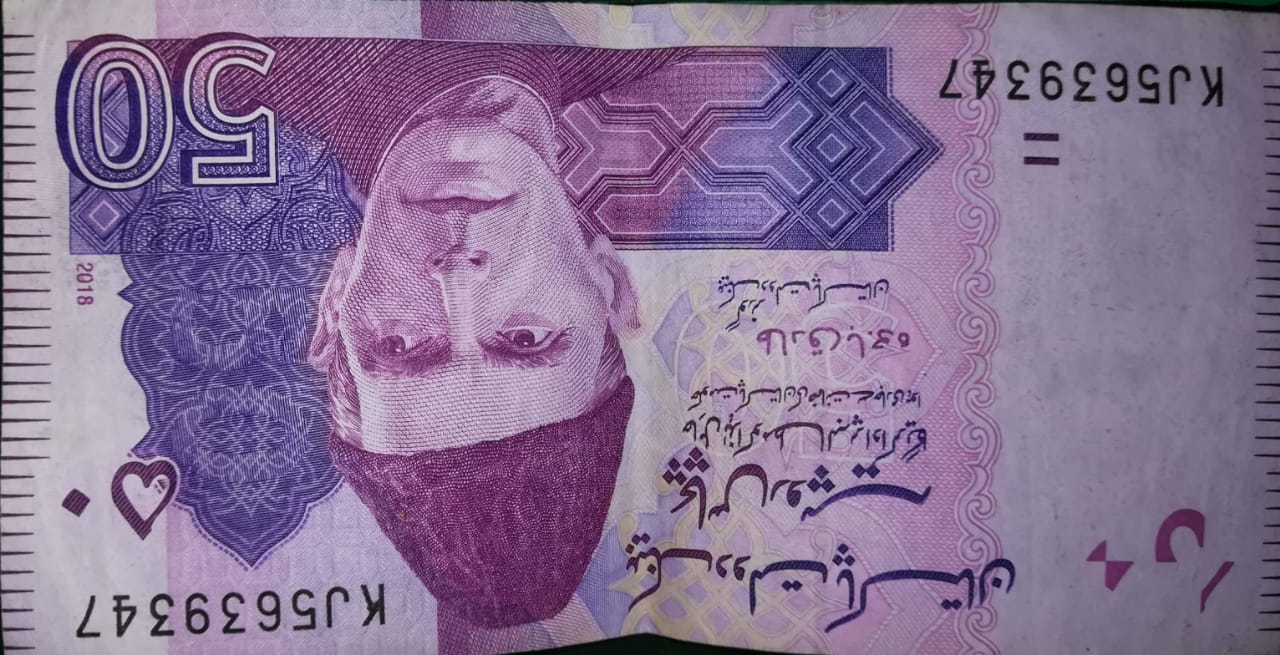50 rupee: (15, 7, 1278, 645)
